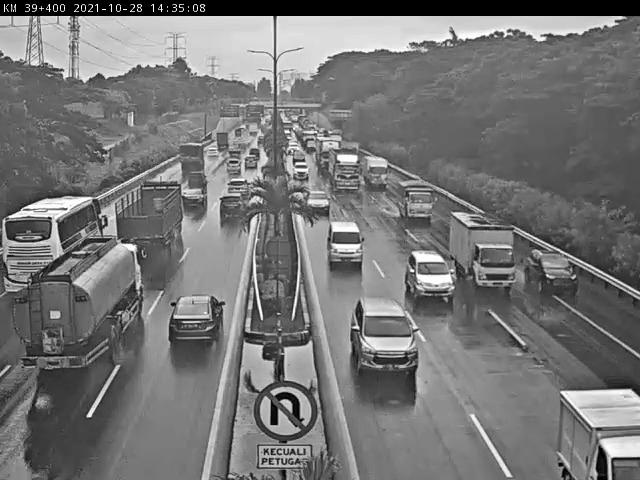big bus: (6, 196, 108, 279)
big truck: (17, 241, 153, 394), (109, 169, 195, 260)
car: (544, 373, 640, 479), (153, 285, 236, 362), (352, 298, 425, 378), (399, 249, 455, 308), (526, 244, 575, 296), (324, 213, 362, 261), (214, 193, 251, 231), (173, 180, 203, 214), (223, 177, 251, 207), (305, 182, 329, 207)
small truck: (453, 213, 517, 289), (389, 177, 433, 220)
